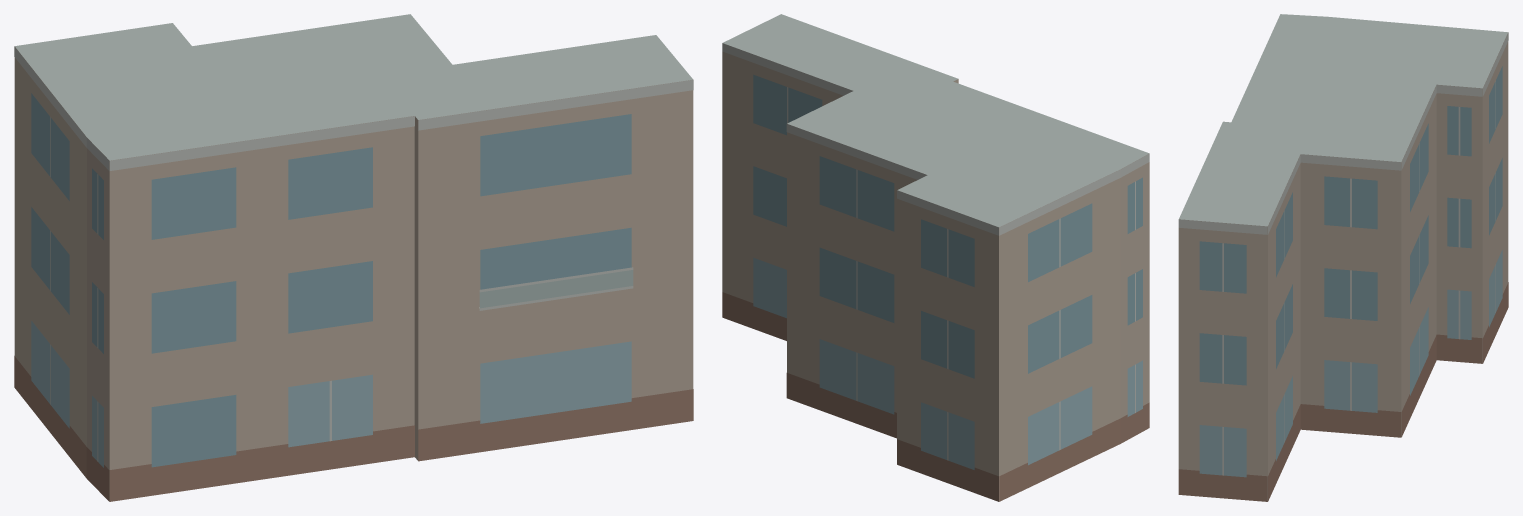
The model's file is survey-upis-32489077.glb.
3 views of the same model, side by side, from view 1: azimuth 30°, elevation 25°; view 2: azimuth 150°, elevation 25°; view 3: azimuth 270°, elevation 25° (orthographic). The views are drawn at different scales.
Parts seen in each view (by area): view 1: survey-upis-32489077.tmp; view 2: survey-upis-32489077.tmp; view 3: survey-upis-32489077.tmp.
Part boxes in pixels (x1,y1,x2,y2): survey-upis-32489077.tmp: [14, 14, 693, 501]; survey-upis-32489077.tmp: [722, 14, 1149, 501]; survey-upis-32489077.tmp: [1178, 14, 1508, 501].
Size of the model in its own units: 13.07 by 7.9 by 8.58.
